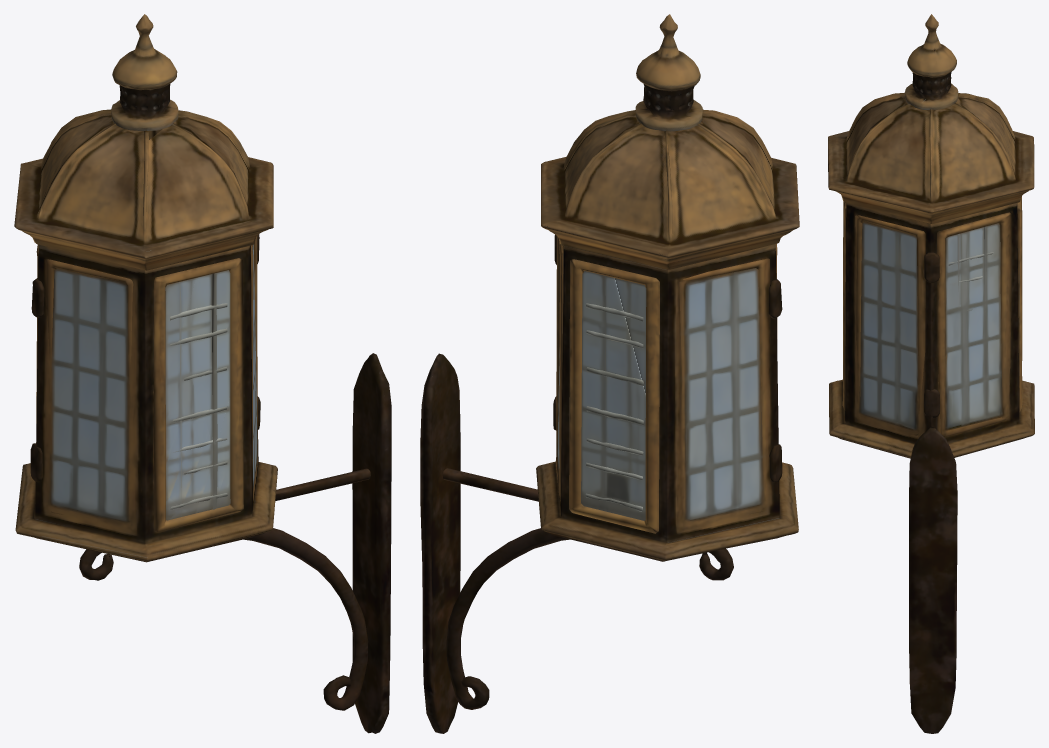
File: lantern.glb
The picture shows the model from 3 angles, left to right: view 1: azimuth 30°, elevation 25°; view 2: azimuth 150°, elevation 25°; view 3: azimuth 270°, elevation 25°; orthographic projection. The views are drawn at different scales.
Parts seen in each view (by area): view 1: geometry_0; view 2: geometry_0; view 3: geometry_0.
Part boxes in pixels (x1=…): geometry_0: x1=14, y1=14, x2=391, y2=733; geometry_0: x1=420, y1=14, x2=799, y2=733; geometry_0: x1=828, y1=14, x2=1034, y2=733.
Bounding box in the file's own units: 0.4921 × 1 × 0.2984.
1 material, 1 textured.
